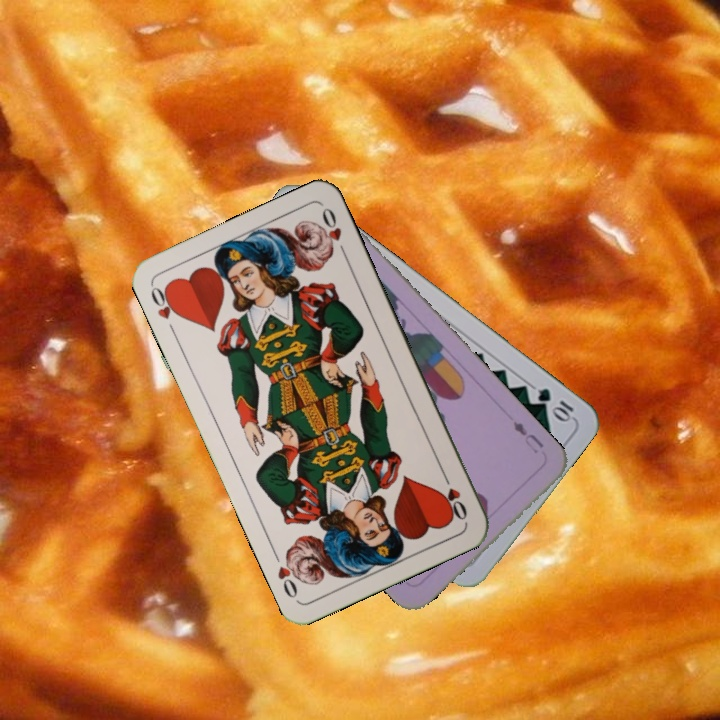EU: (508, 417, 546, 456)
G10: (533, 383, 577, 425)
HO: (146, 281, 183, 338), (438, 468, 470, 523)
